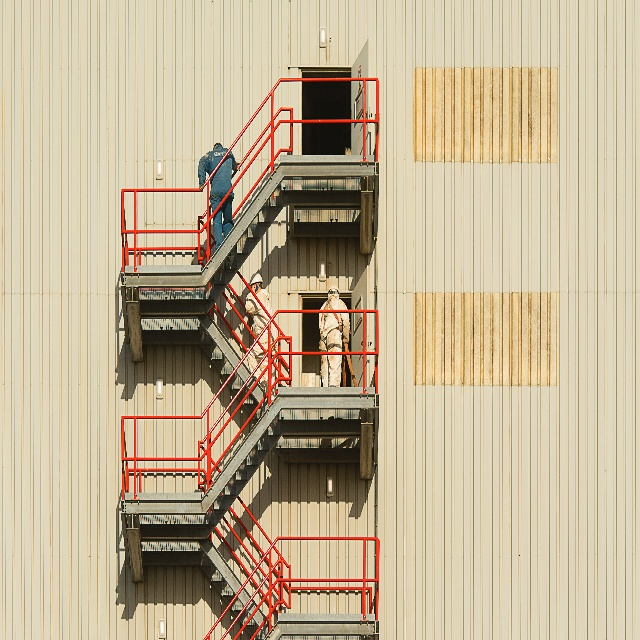Sin_guantes: (251, 284, 257, 295), (199, 185, 205, 192)
